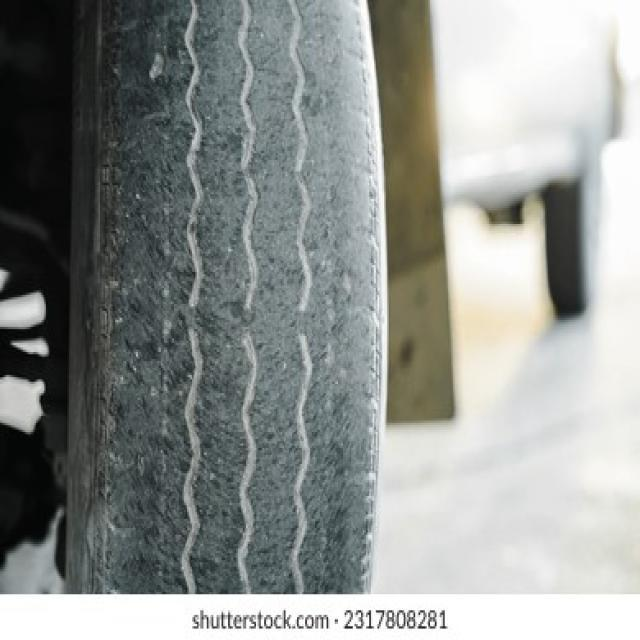Flat spots: (57, 0, 389, 597)
